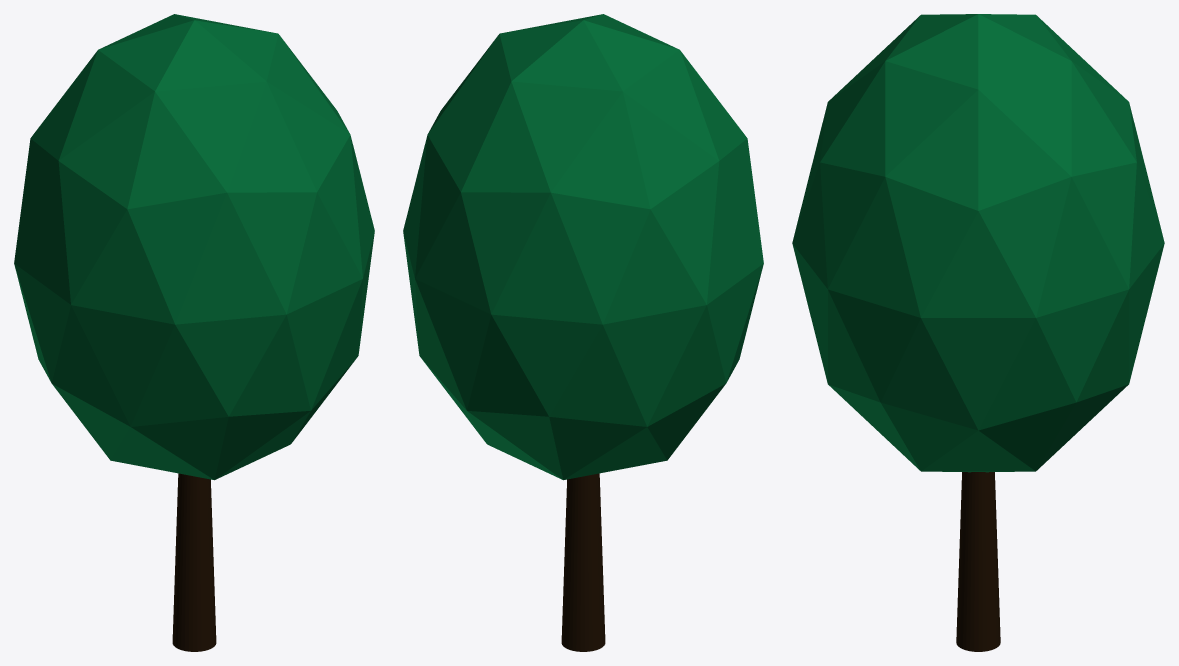
The model's file is simpleTree.fbx.
3 views of the same model, side by side, from view 1: azimuth 30°, elevation 25°; view 2: azimuth 150°, elevation 25°; view 3: azimuth 270°, elevation 25° (orthographic).
Parts seen in each view (by area): view 1: SimpleTree; view 2: SimpleTree; view 3: SimpleTree.
Part boxes in pixels (x1,y1,x2,y2): SimpleTree: [14, 14, 374, 651]; SimpleTree: [403, 14, 763, 651]; SimpleTree: [792, 14, 1164, 651].
Bounding box in the file's own units: 2131 × 4173 × 2241.
